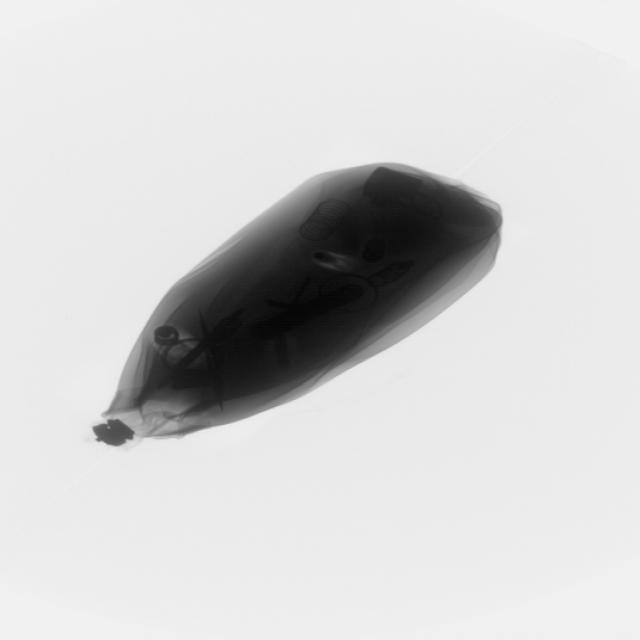BLADE: (196, 316, 228, 407)
GUN: (247, 284, 369, 348)
